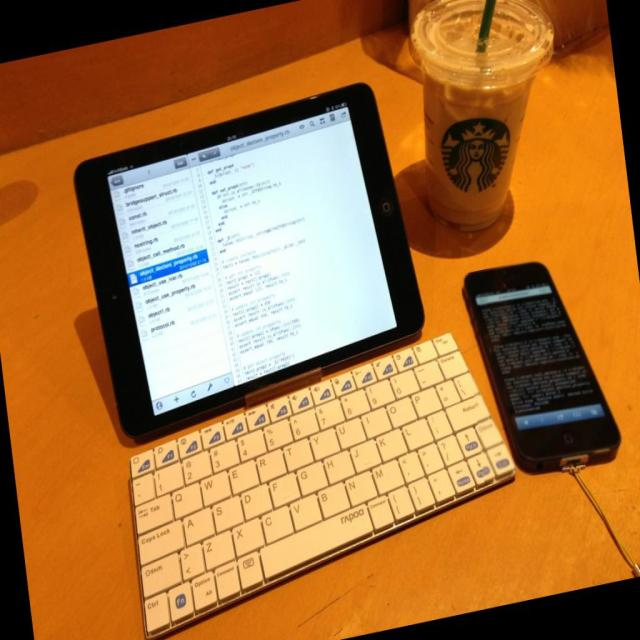handphone: (468, 264, 620, 484)
keyboard: (139, 318, 495, 630)
